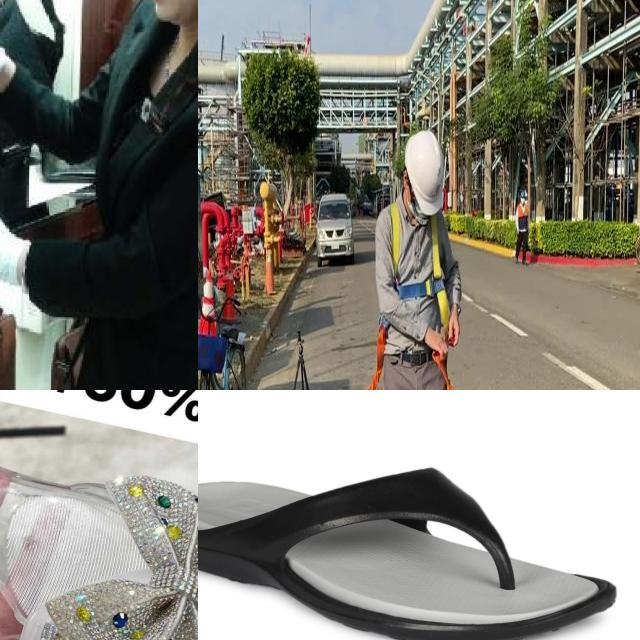Harness: (389, 205, 450, 332), (367, 323, 388, 390), (430, 354, 456, 390)
Sandals: (198, 464, 619, 640), (0, 390, 198, 640)
hand_glove: (0, 189, 20, 294)
